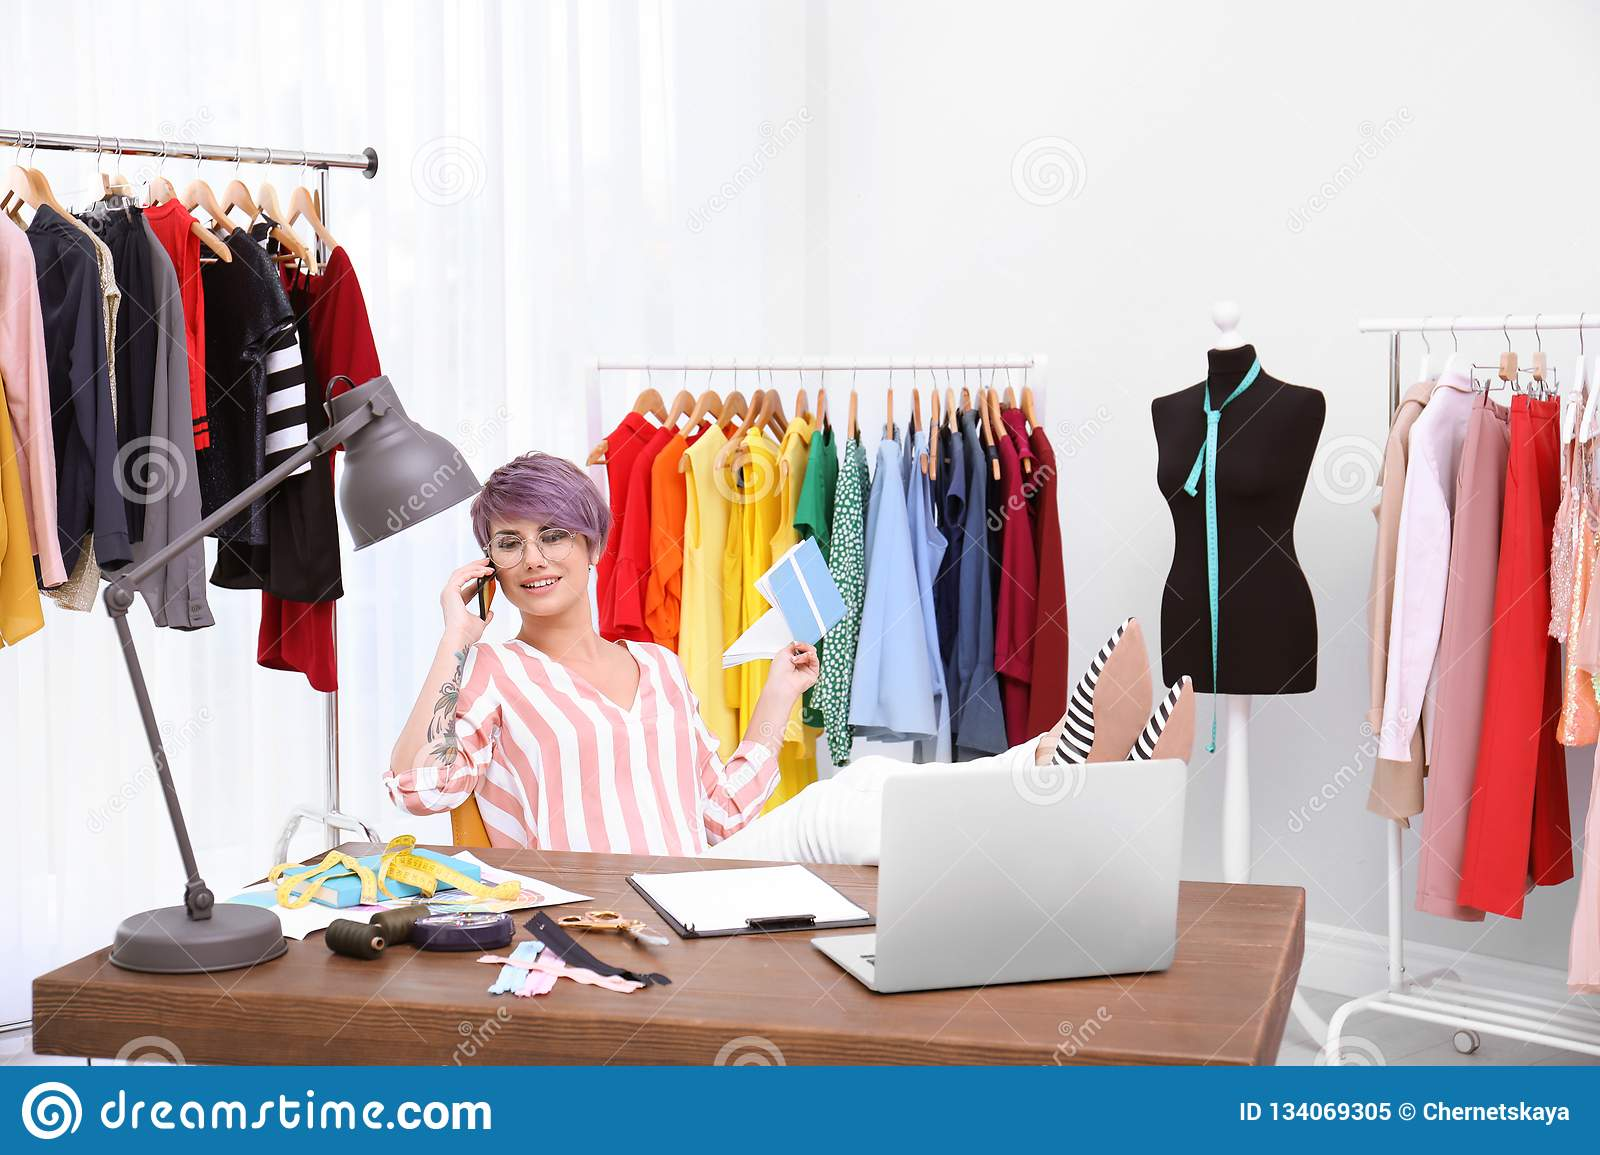phone: (477, 556, 504, 630)
talk: (439, 515, 581, 637)
